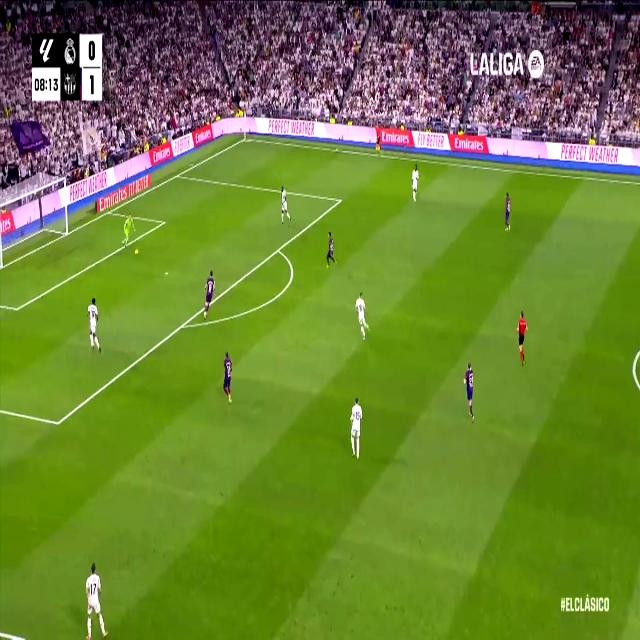bigarea_bottom_inner: (53, 410, 63, 434)
bigarea_top_inner: (337, 193, 342, 206)
bigarea_top_outter: (176, 170, 180, 179)
bottom_arc_area_intersection: (178, 317, 187, 333)
corner: (242, 134, 248, 142)
smallarea_bottom_inner: (12, 299, 22, 318)
smallarea_top_inner: (160, 217, 166, 227)
top_arc_area_intersection: (274, 242, 282, 256)
